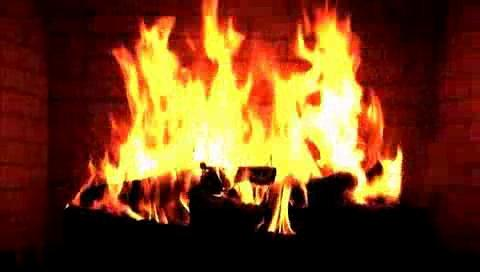fire: (61, 6, 477, 230)
